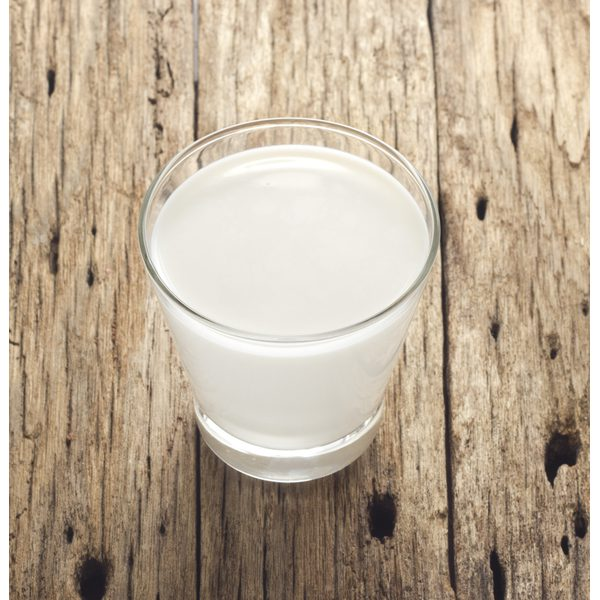glass of milk: (132, 113, 460, 493)
